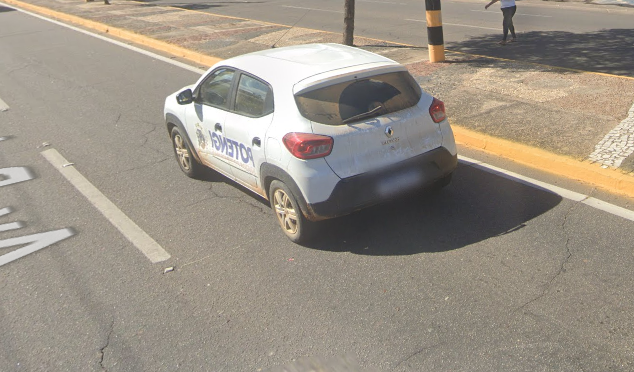car: (161, 14, 462, 247)
